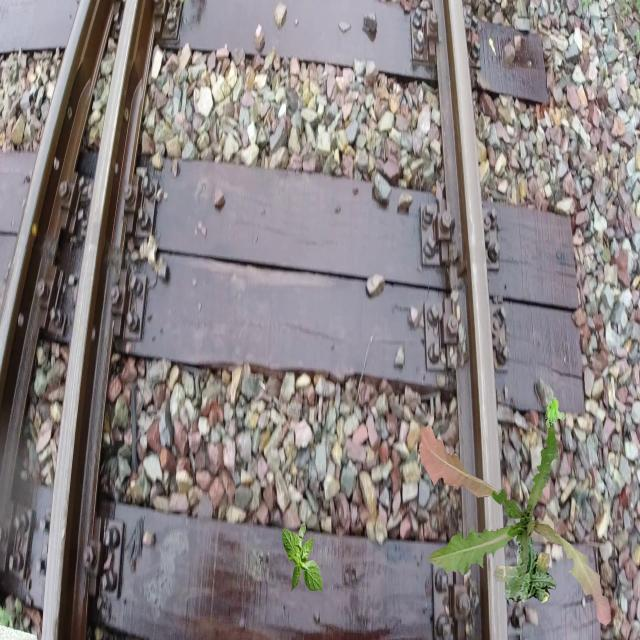Plant: (419, 424, 612, 626), (493, 521, 556, 604), (282, 523, 324, 594), (545, 397, 566, 430)
